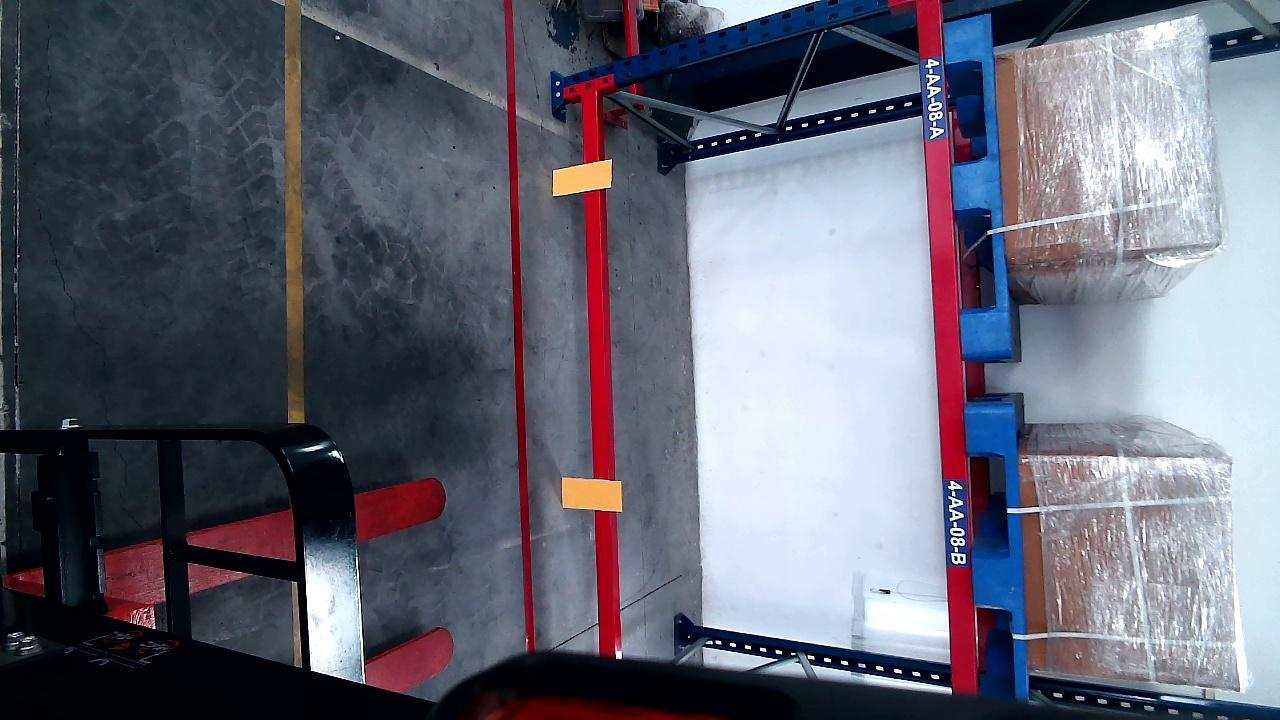red_line: (498, 1, 538, 653)
yellow_line: (282, 1, 306, 416)
